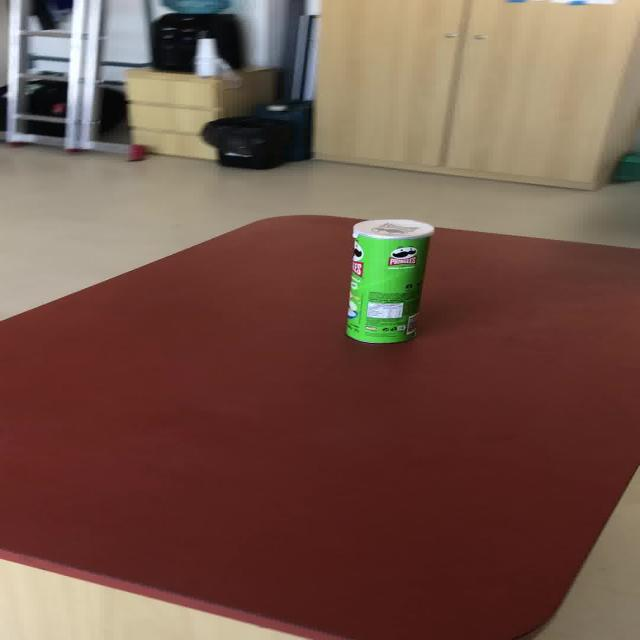pringles: (343, 218, 434, 344)
